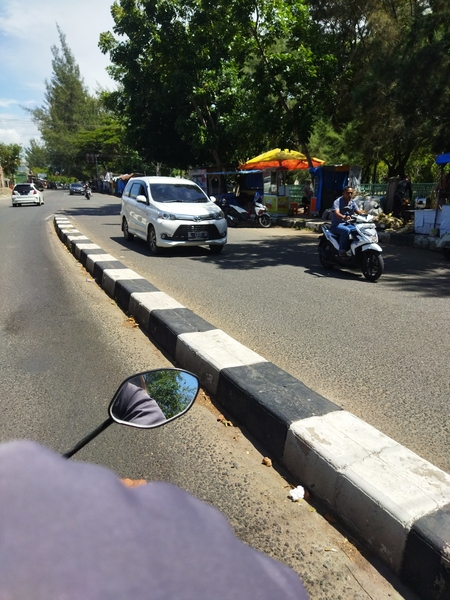car: (119, 176, 232, 260), (8, 180, 40, 203)
motorcycle: (319, 213, 387, 284), (221, 198, 273, 233)
